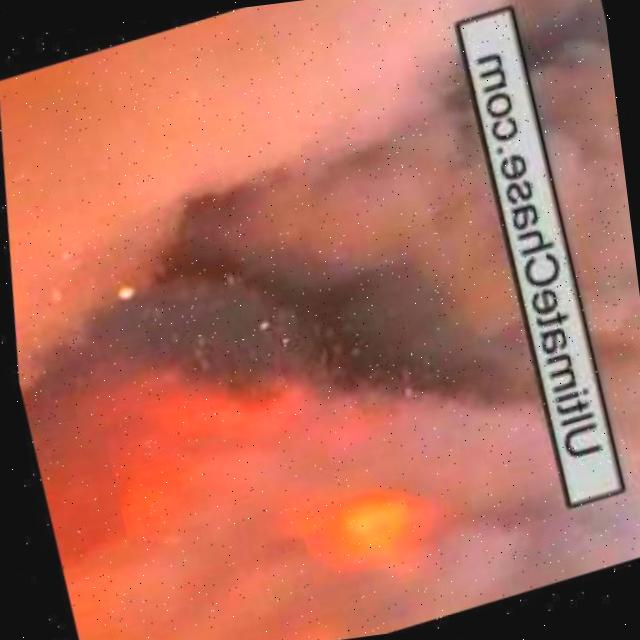fire: (32, 311, 465, 640)
